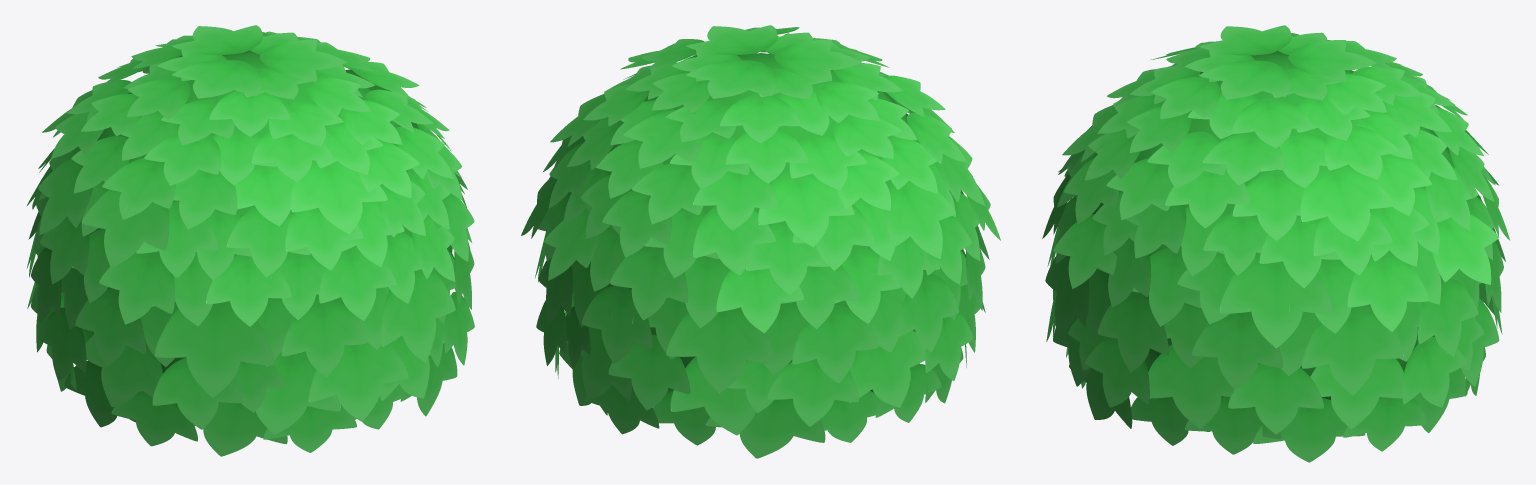
The model's file is Bush.fbx.
The picture shows the model from 3 angles, left to right: view 1: azimuth 30°, elevation 25°; view 2: azimuth 150°, elevation 25°; view 3: azimuth 270°, elevation 25°; orthographic projection.
Parts seen in each view (by area): view 1: Bush; view 2: Bush; view 3: Bush.
Part boxes in pixels (x1,y1,x2,y2): Bush: (26,25,474,456); Bush: (521,25,1000,458); Bush: (1042,25,1510,462).
Size of the model in its own units: 209 by 161 by 213.
